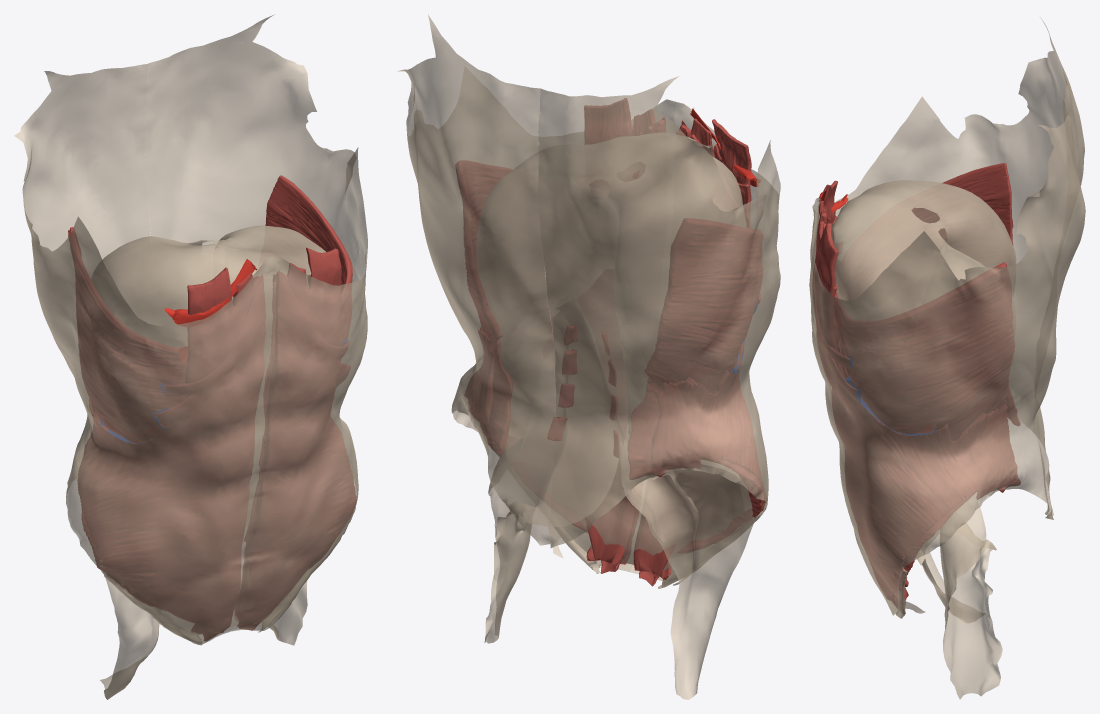
Rendered from muscular.abdomen.glb.
3 views of the same model, side by side, from view 1: azimuth 30°, elevation 25°; view 2: azimuth 150°, elevation 25°; view 3: azimuth 270°, elevation 25° (orthographic). The views are drawn at different scales.
Parts seen in each view (by area): view 1: right_investing_abdominal_fascia, left_investing_abdominal_fascia, right_internal_abdominal_oblique_muscle, left_internal_abdominal_oblique_muscle, diaphragmatic_fascia, right_transversus_abdominis_muscle, left_rectus_abdominis_muscle, right_rectus_abdominis_muscle, left_transversus_abdominis_muscle, right_iliopsoas_fascia, transversalis_fascia, left_iliopsoas_fascia (+3 smaller); view 2: right_investing_abdominal_fascia, left_investing_abdominal_fascia, diaphragmatic_fascia, transversalis_fascia, right_transversus_abdominis_muscle, left_iliopsoas_fascia, right_iliopsoas_fascia, right_internal_abdominal_oblique_muscle, left_transversus_abdominis_muscle, left_rectus_abdominis_muscle, right_rectus_abdominis_muscle, left_internal_abdominal_oblique_muscle (+3 smaller); view 3: left_investing_abdominal_fascia, right_investing_abdominal_fascia, left_transversus_abdominis_muscle, left_internal_abdominal_oblique_muscle, diaphragmatic_fascia, left_iliopsoas_fascia, right_transversus_abdominis_muscle, left_rectus_abdominis_muscle, right_iliopsoas_fascia, transversalis_fascia, right_rectus_abdominis_muscle.
Boxes of the visible parts, x1,y1,x2,y2 form: right_investing_abdominal_fascia: (14,64,273,644); left_investing_abdominal_fascia: (144,14,367,631); right_internal_abdominal_oblique_muscle: (77,274,265,633); left_internal_abdominal_oblique_muscle: (237,271,356,627); diaphragmatic_fascia: (91,225,326,347); right_transversus_abdominis_muscle: (68,227,217,641); left_rectus_abdominis_muscle: (234,247,342,619); right_rectus_abdominis_muscle: (185,267,259,397); left_transversus_abdominis_muscle: (239,175,352,630); right_iliopsoas_fascia: (100,578,159,699); transversalis_fascia: (154,279,289,634); left_iliopsoas_fascia: (268,581,307,645); right_investing_abdominal_fascia: (538,76,780,580); left_investing_abdominal_fascia: (397,14,674,571); diaphragmatic_fascia: (476,133,746,381); transversalis_fascia: (500,162,751,573); right_transversus_abdominis_muscle: (628,131,763,586); left_iliopsoas_fascia: (484,299,623,643); right_iliopsoas_fascia: (621,425,755,699); right_internal_abdominal_oblique_muscle: (651,120,767,543); left_transversus_abdominis_muscle: (455,127,661,573); left_rectus_abdominis_muscle: (584,98,665,565); right_rectus_abdominis_muscle: (633,118,751,576); left_internal_abdominal_oblique_muscle: (464,117,665,564); left_investing_abdominal_fascia: (809,100,1085,615); right_investing_abdominal_fascia: (810,16,1084,516); left_transversus_abdominis_muscle: (831,231,1020,608); left_internal_abdominal_oblique_muscle: (812,220,1010,600); diaphragmatic_fascia: (832,180,1016,339); left_iliopsoas_fascia: (940,497,1002,699); right_transversus_abdominis_muscle: (826,163,1020,425); left_rectus_abdominis_muscle: (815,221,908,604); right_iliopsoas_fascia: (921,529,985,622); transversalis_fascia: (831,225,976,506); right_rectus_abdominis_muscle: (818,180,908,586).
Bounding box in the file's own units: 0.3308 × 0.5993 × 0.2515.
